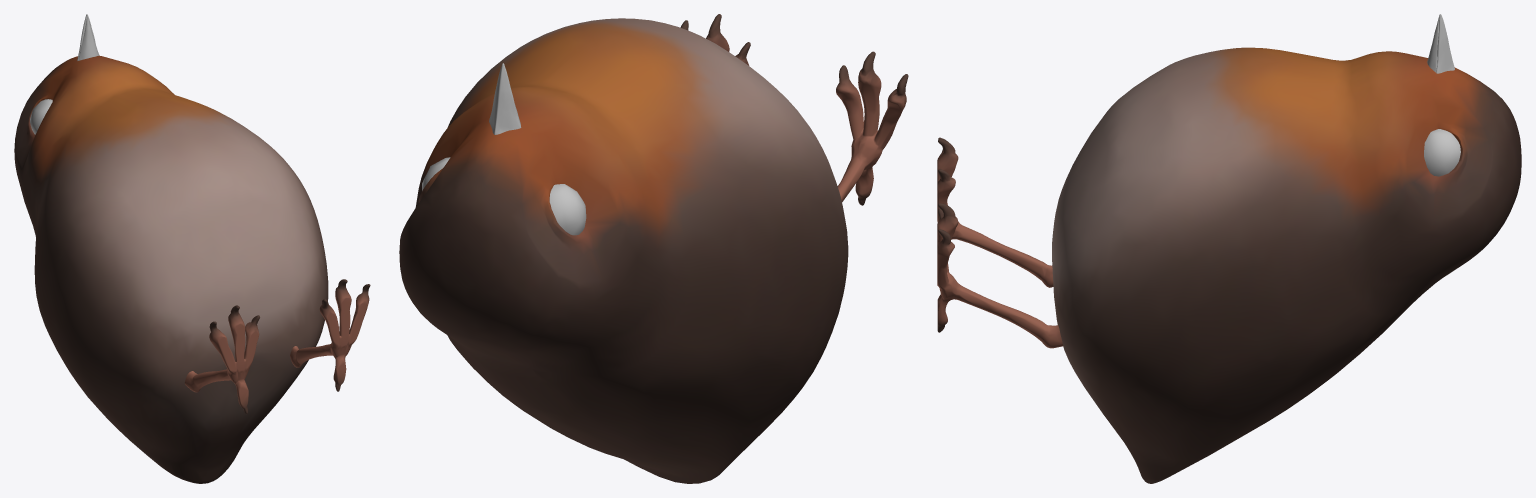
The model's file is Birb_PLACEHOLDER_002.fbx.
3 renders of one model, left to right at view 1: azimuth 30°, elevation 25°; view 2: azimuth 150°, elevation 25°; view 3: azimuth 270°, elevation 25°, orthographic. The views are drawn at different scales.
Parts seen in each view (by area): view 1: Body.001, Legs.001, Beak_Btm.001, Eyes.001; view 2: Body.001, Legs.001, Eyes.001, Beak_Top.001; view 3: Body.001, Legs.001, Eyes.001, Beak_Top.001.
Boxes of the visible parts, x1,y1,x2,y2 form: Body.001: (14,55,328,483); Legs.001: (184,279,370,414); Beak_Btm.001: (78,16,99,60); Eyes.001: (30,99,52,134); Body.001: (399,18,848,483); Legs.001: (680,14,908,205); Eyes.001: (422,157,586,235); Beak_Top.001: (489,63,521,134); Body.001: (1052,47,1521,483); Legs.001: (937,137,1063,348); Eyes.001: (1424,129,1460,176); Beak_Top.001: (1436,14,1454,73).
Size of the model in its own units: 60 by 87.56 by 99.75.
